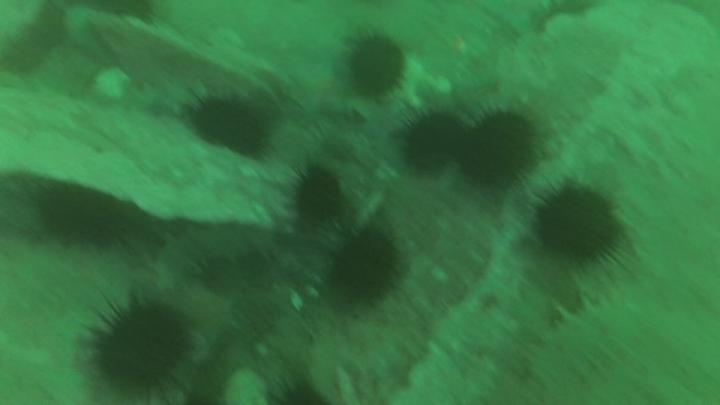echinus: (100, 304, 190, 387), (540, 184, 618, 261), (468, 112, 535, 185), (43, 189, 125, 246), (196, 101, 268, 156), (334, 233, 395, 293), (408, 112, 462, 176), (350, 35, 403, 98), (297, 170, 345, 223)
holothurian: (532, 298, 641, 386), (155, 227, 277, 287)
